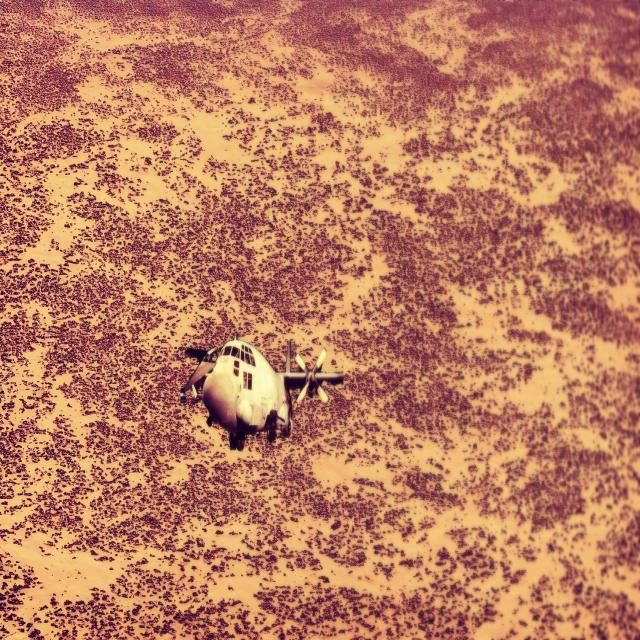airplane: (180, 336, 344, 452)
